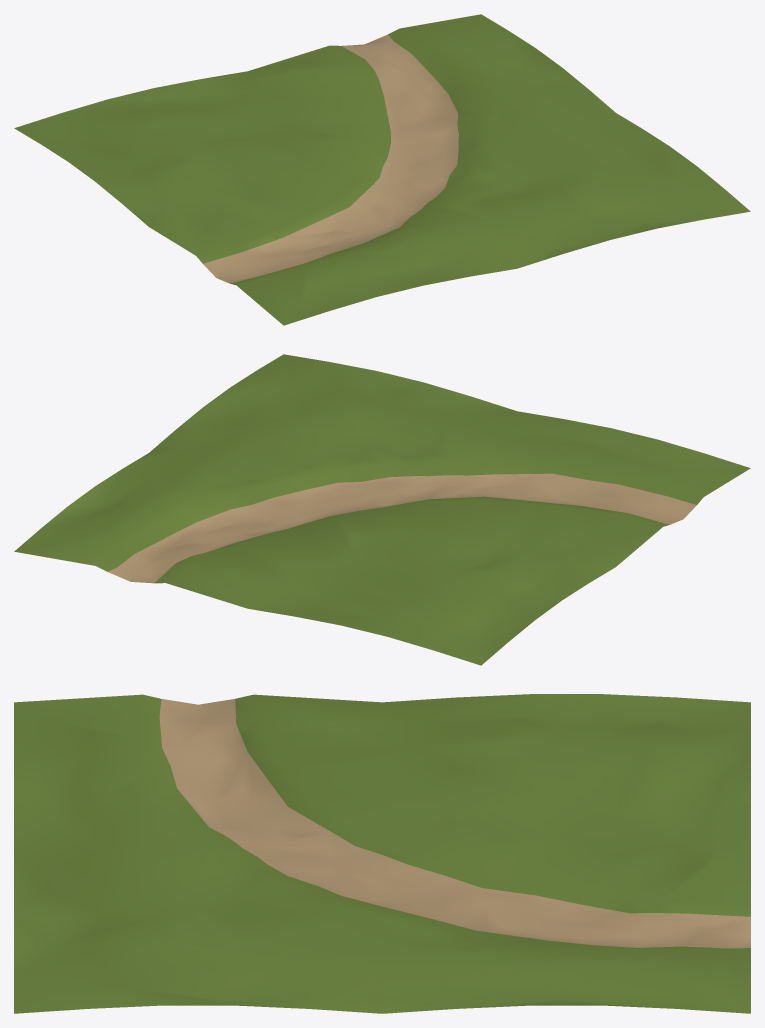
The model's file is rpgpp_ag_terrain_path_09_20x20m_corner_a.fbx.
3 views of the same model, one above another, from view 1: azimuth 30°, elevation 25°; view 2: azimuth 150°, elevation 25°; view 3: azimuth 270°, elevation 25° (orthographic). The views are drawn at different scales.
Parts seen in each view (by area): view 1: rpgpp_ag_terrain_path_09_20x20m_corner_a; view 2: rpgpp_ag_terrain_path_09_20x20m_corner_a; view 3: rpgpp_ag_terrain_path_09_20x20m_corner_a.
Part boxes in pixels (box(x1,y1,x2,y2)): rpgpp_ag_terrain_path_09_20x20m_corner_a: box(14, 14, 750, 325); rpgpp_ag_terrain_path_09_20x20m_corner_a: box(14, 354, 750, 665); rpgpp_ag_terrain_path_09_20x20m_corner_a: box(14, 694, 750, 1013).
Bounding box in the file's own units: 20 × 0.594 × 20.
